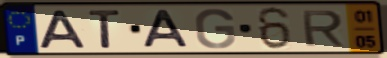6: (256, 6, 294, 52)
A: (38, 9, 90, 50), (142, 9, 192, 50)
G: (193, 7, 238, 50)
R: (299, 9, 346, 48)
T: (87, 8, 124, 50)
